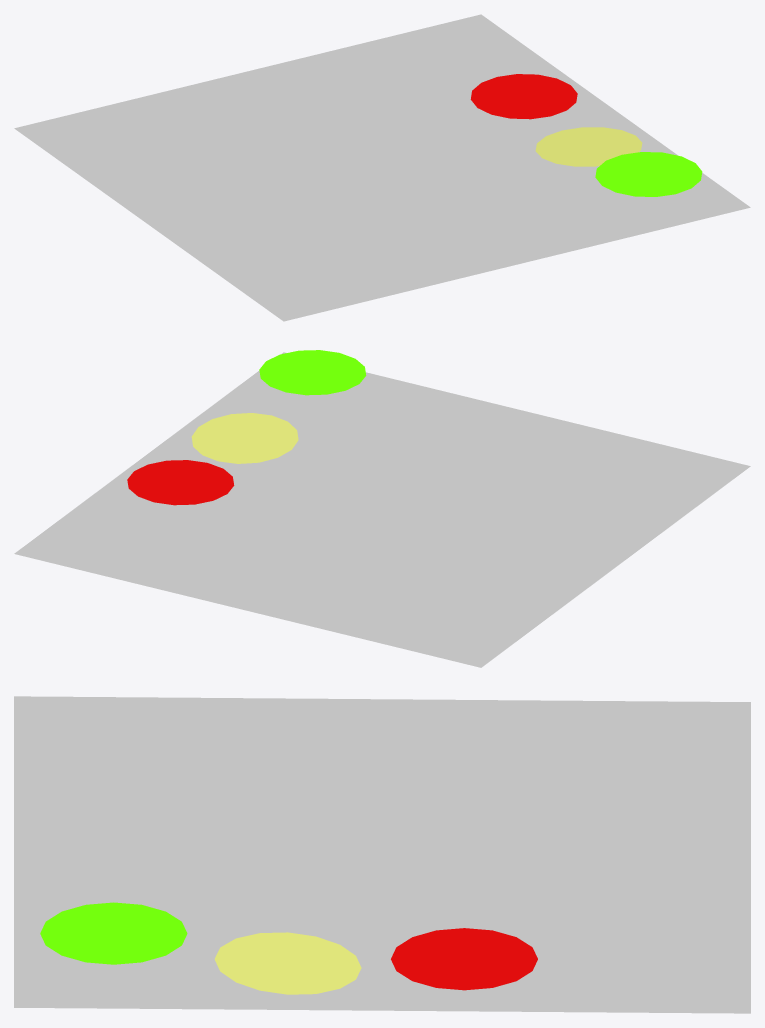
Rendered from healthcardgreen.glb.
3 views of the same model, one above another, from view 1: azimuth 30°, elevation 25°; view 2: azimuth 150°, elevation 25°; view 3: azimuth 270°, elevation 25° (orthographic). The views are drawn at different scales.
Parts seen in each view (by area): view 1: Plane, Circle (×3); view 2: Plane, Circle (×3); view 3: Plane, Circle (×3).
Boxes of the visible parts, x1=… form: Plane: x1=14, y1=14, x2=750, y2=321; Circle (×3): x1=470, y1=74, x2=702, y2=196; Plane: x1=14, y1=352, x2=750, y2=667; Circle (×3): x1=127, y1=350, x2=366, y2=505; Plane: x1=14, y1=696, x2=750, y2=1013; Circle (×3): x1=40, y1=902, x2=537, y2=994.
Size of the model in its own units: 1 by 0.0543 by 1.
